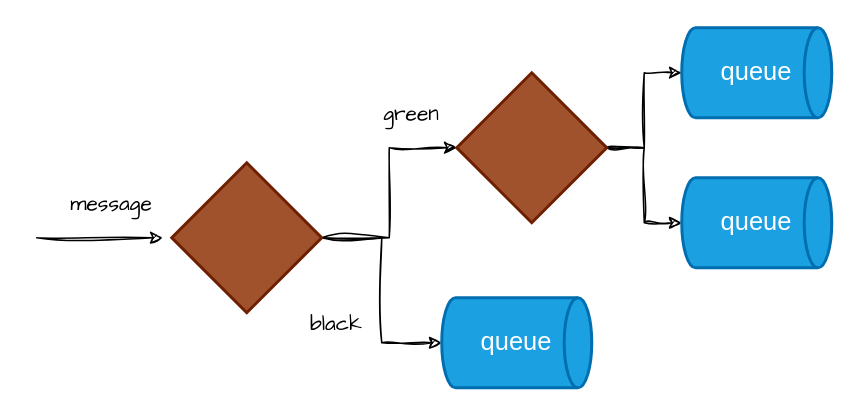
The diagram is 860 pixels wide and 414 high, and some of its shapes have lost their labels. Each missing label, with the centre of its shape:
"Direct" goes at point (246, 237).
"Fanout" goes at point (531, 147).
